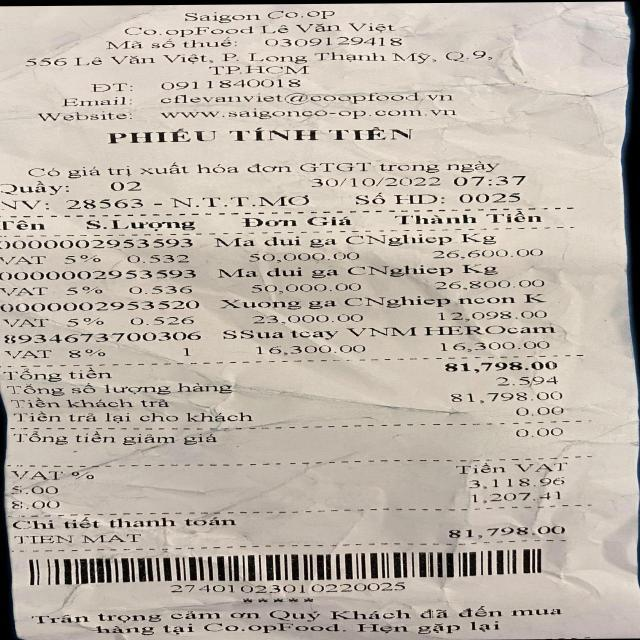Date: (294, 174, 452, 191)
Store_Name: (108, 10, 366, 24)
amount_number: (402, 360, 567, 377)
label_total: (0, 363, 117, 383)
